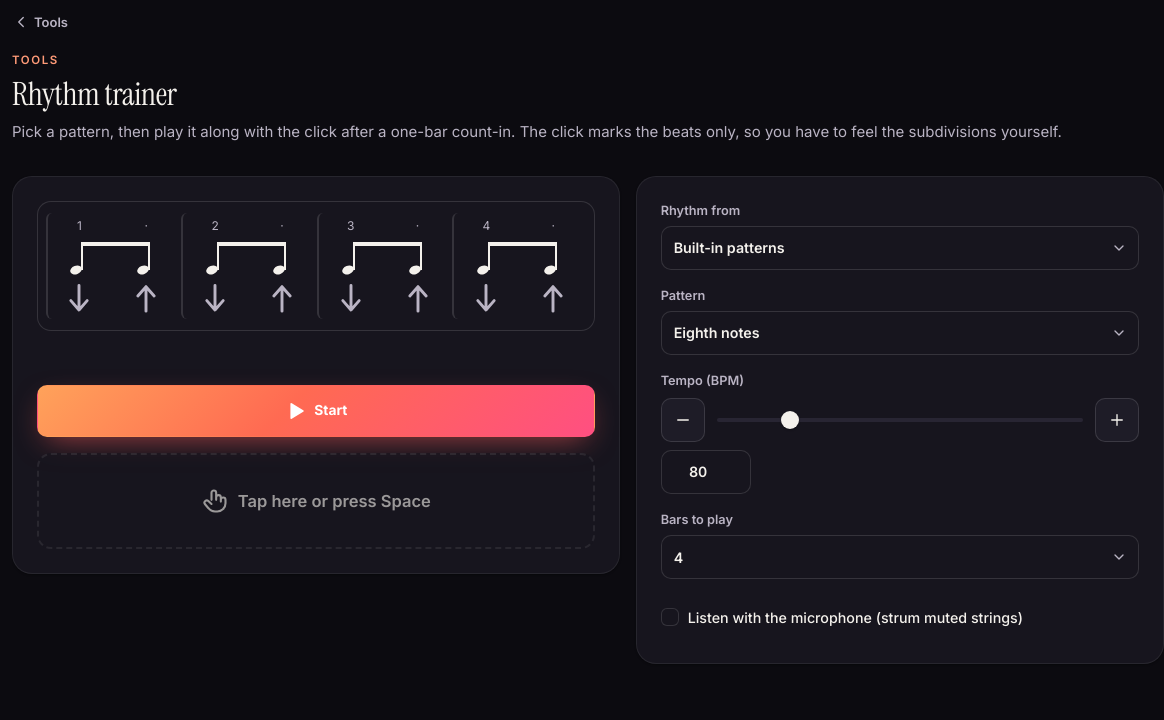
RhythmTrainerView › says so when the song cannot be loaded
Select "A song's bars" in the dropdown with test id "rhythm-source": (900, 248) [661,226,1139,270]
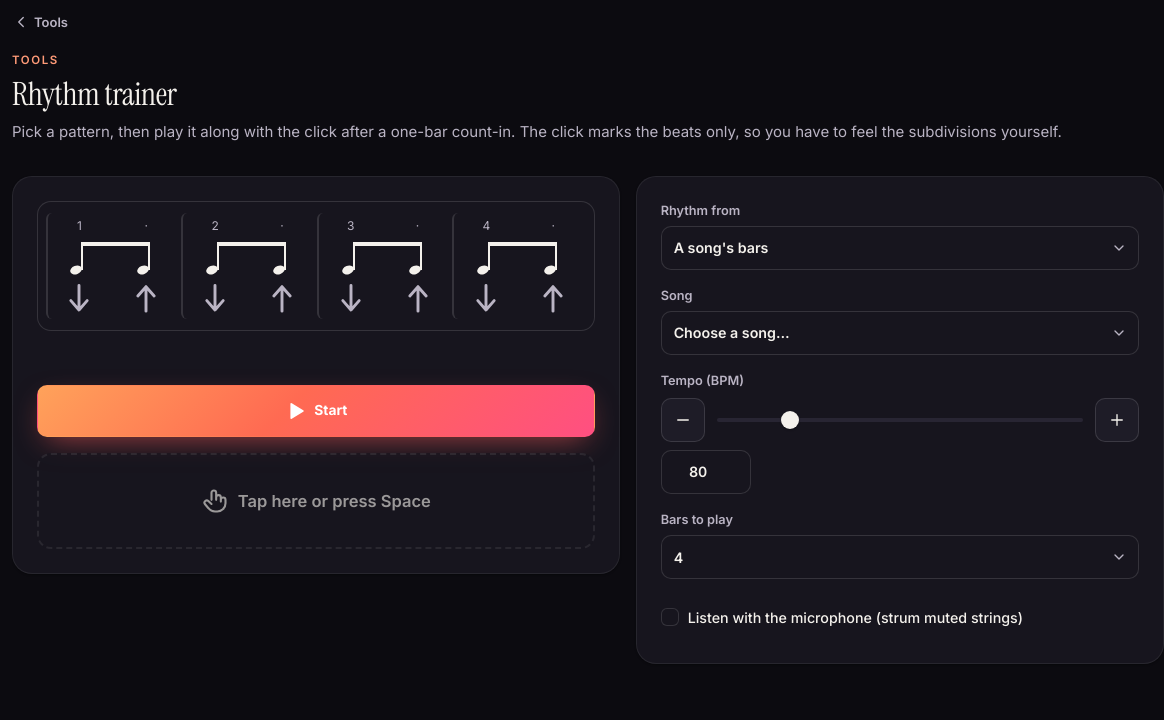
Select "My riff" in the dropdown with test id "rhythm-song": (900, 333) [661,311,1139,355]
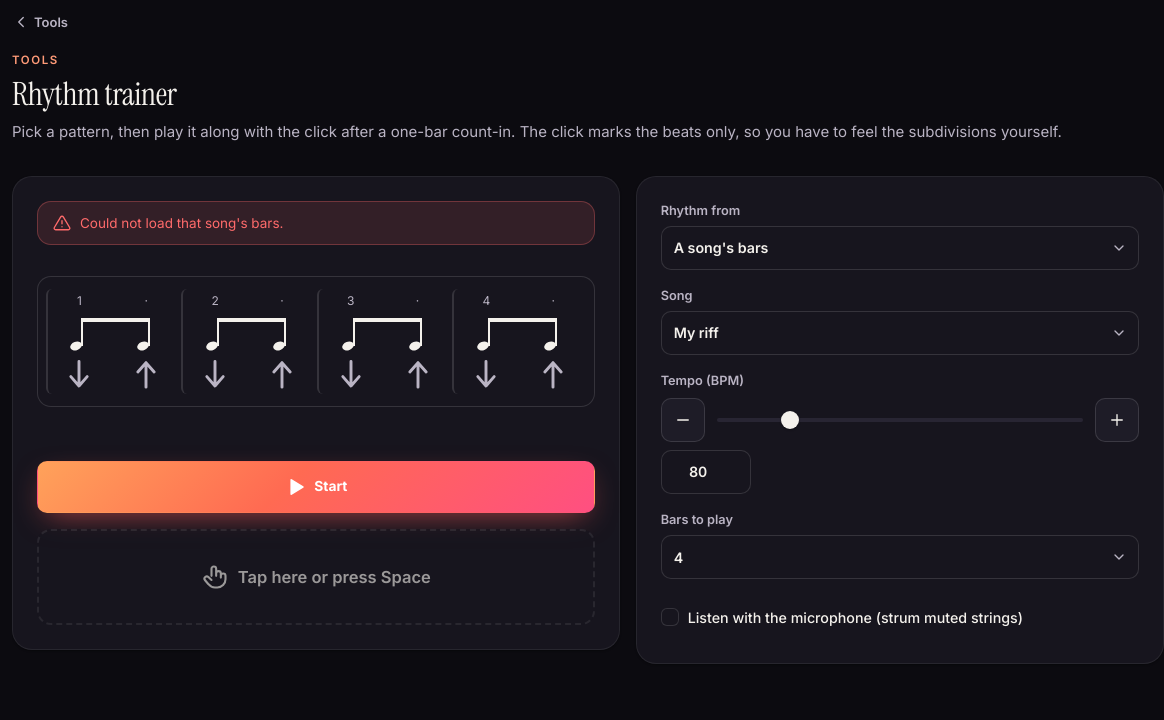
Result: the message "Could not load that song's bars." is shown at [37,201,595,246]
